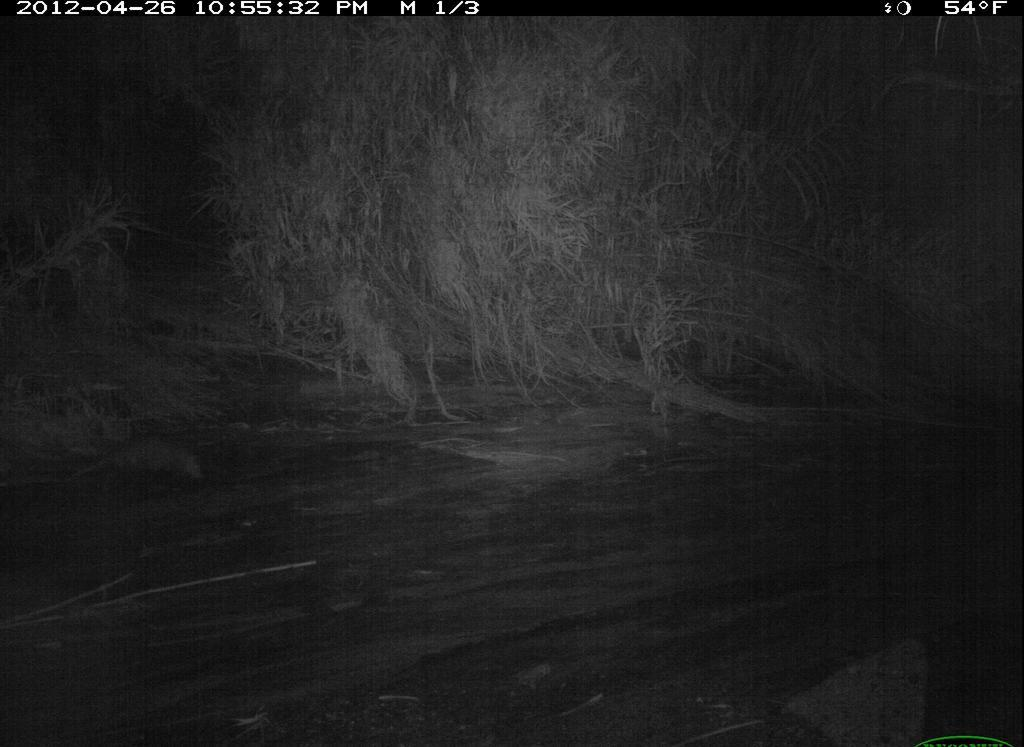opossum: (44, 424, 219, 510)
